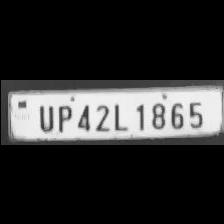1: (128, 99, 146, 130)
2: (90, 99, 110, 131)
4: (72, 100, 92, 132)
5: (184, 97, 206, 128)
6: (167, 98, 185, 128)
8: (146, 98, 168, 130)
L: (110, 99, 128, 130)
P: (54, 101, 72, 131)
U: (32, 100, 54, 132)
